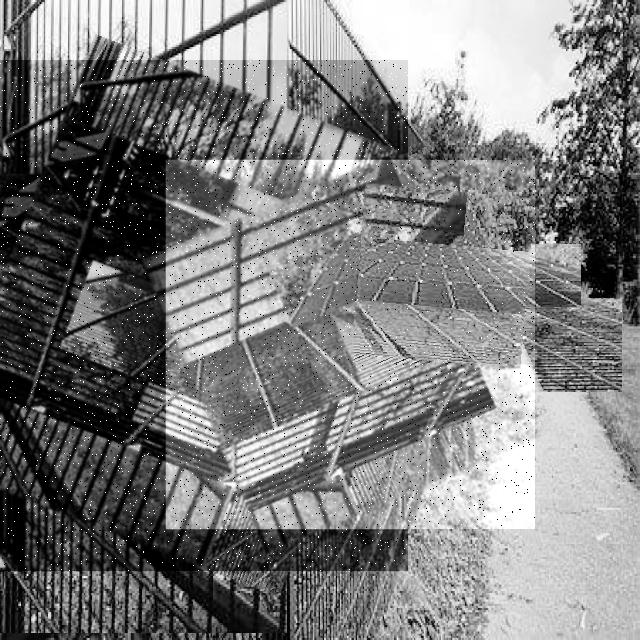fences: (0, 60, 408, 571), (166, 160, 535, 529), (354, 187, 532, 364)
